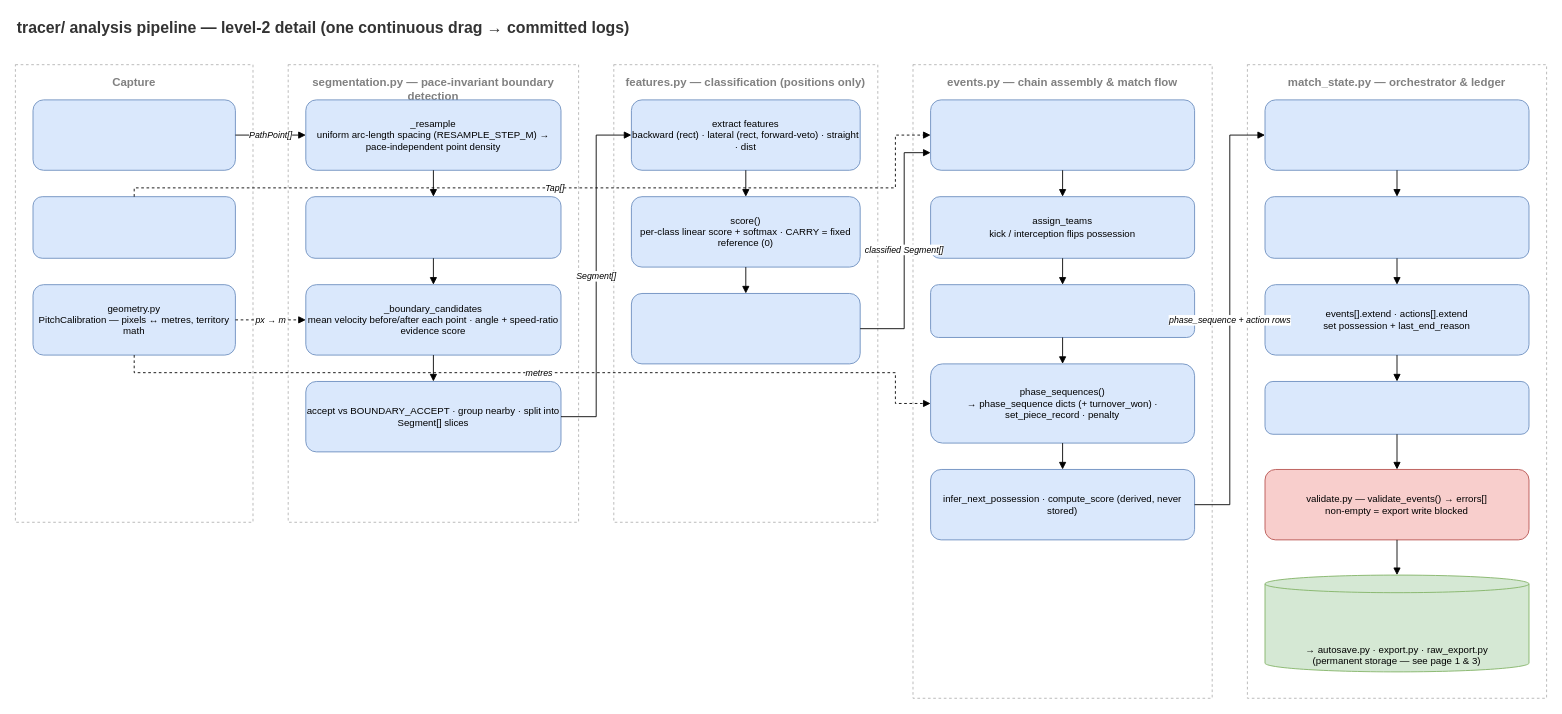
The diagram is 1562 pixels wide and 714 high, and some of its shapes have lost their labels. The shapes that lost their labels are listed below. From the top down, each one's centre as x and y in pixels, then its label:
pixel 133 134: canvas.py pointer handler → append PathPoint(x, y, t) while held
pixel 1062 134: apply_taps correlate taps to nearest boundary — digits · K/P/R · L · Shift
pixel 1396 134: end_chain(t) snapshot event/action indices at mouse_down
pixel 133 227: keystate.py key handler → Tap(key, t) buffer
pixel 433 227: _smooth moving average · keeps true endpoints (exact metres gained)
pixel 1396 227: build PlayChain → phase_sequences() + chain_to_actions()
pixel 745 328: action = argmax CARRY / PASS / KICK confidence = top − second prob
pixel 1062 310: split into same-team sub-chains
pixel 1396 407: precommit / commit / undo (chain_seq)
